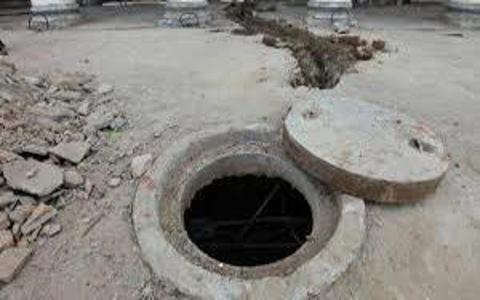open manhole: (157, 134, 343, 283)
